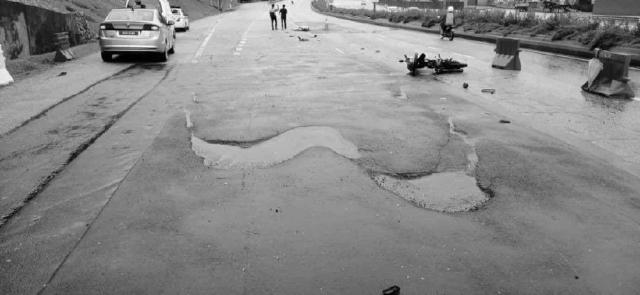Pothole: (370, 114, 496, 214), (182, 109, 364, 173)
